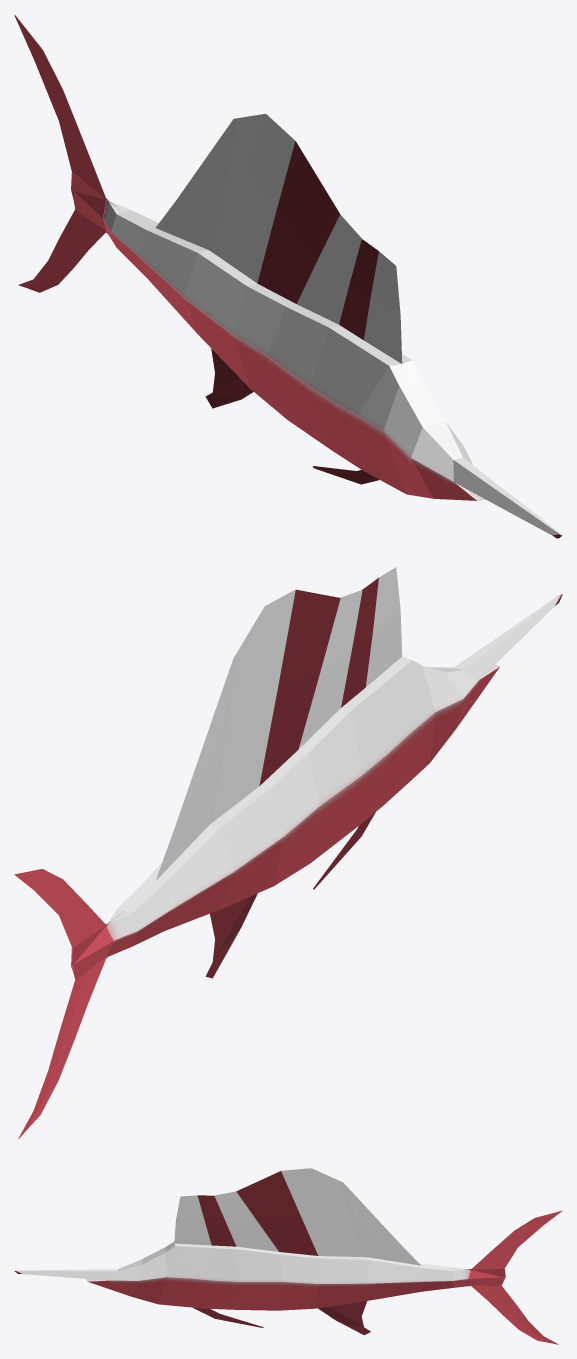
Rendered from fish_4.glb.
The picture shows the model from 3 angles, top to bottom: view 1: azimuth 30°, elevation 25°; view 2: azimuth 150°, elevation 25°; view 3: azimuth 270°, elevation 25°; orthographic projection. The views are drawn at different scales.
Parts seen in each view (by area): view 1: Cube.001_Material.001_0; view 2: Cube.001_Material.001_0; view 3: Cube.001_Material.001_0.
Part boxes in pixels (x1,y1,x2,y2): Cube.001_Material.001_0: (14,15,562,538); Cube.001_Material.001_0: (14,567,562,1139); Cube.001_Material.001_0: (14,1168,562,1344).
Size of the model in its own units: 8.61 by 55.59 by 157.
1 material, 1 textured.
